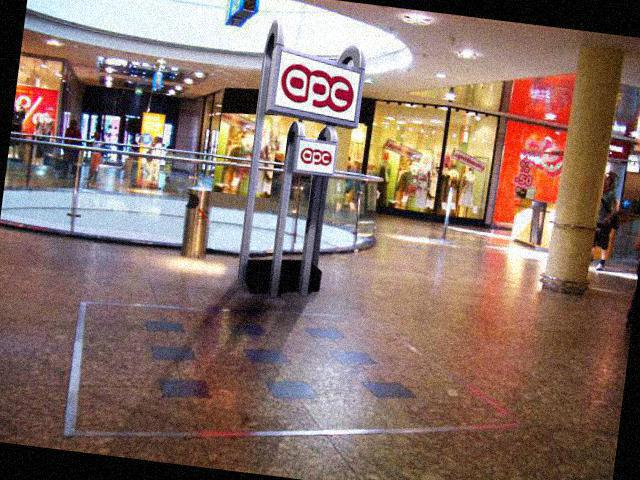Bote de Basura: (176, 186, 218, 263)
